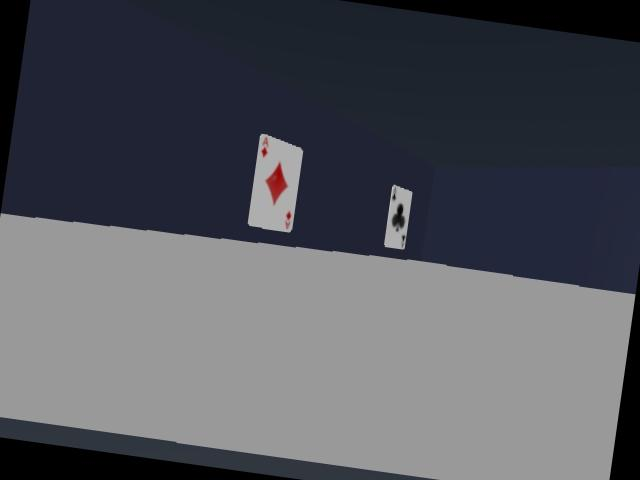club: (384, 186, 411, 249)
diamond: (248, 135, 302, 231)
